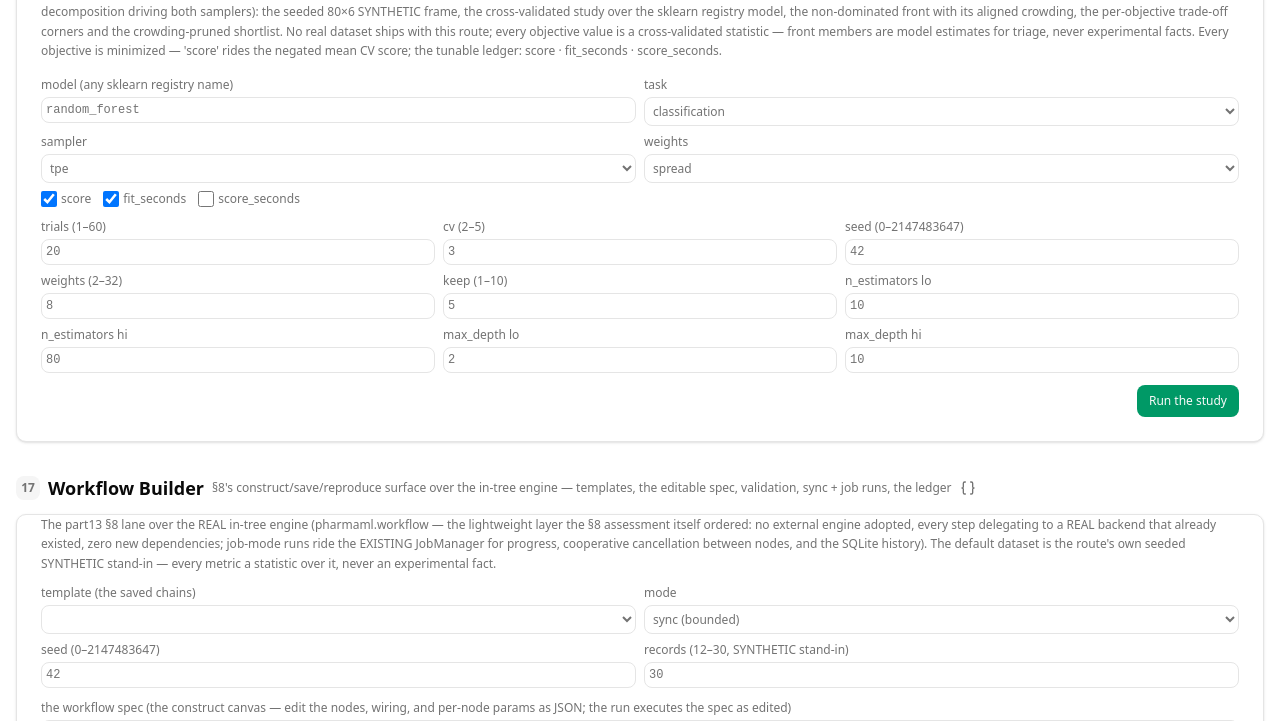
Test: the multi-objective optimization lane of the Machine Learning workspace › renders the honest nulls — a 3-objective study reports a null indicator
(page scrolled)
Click the button "Run the study" at (1188, 401), box [1137,385,1239,417]
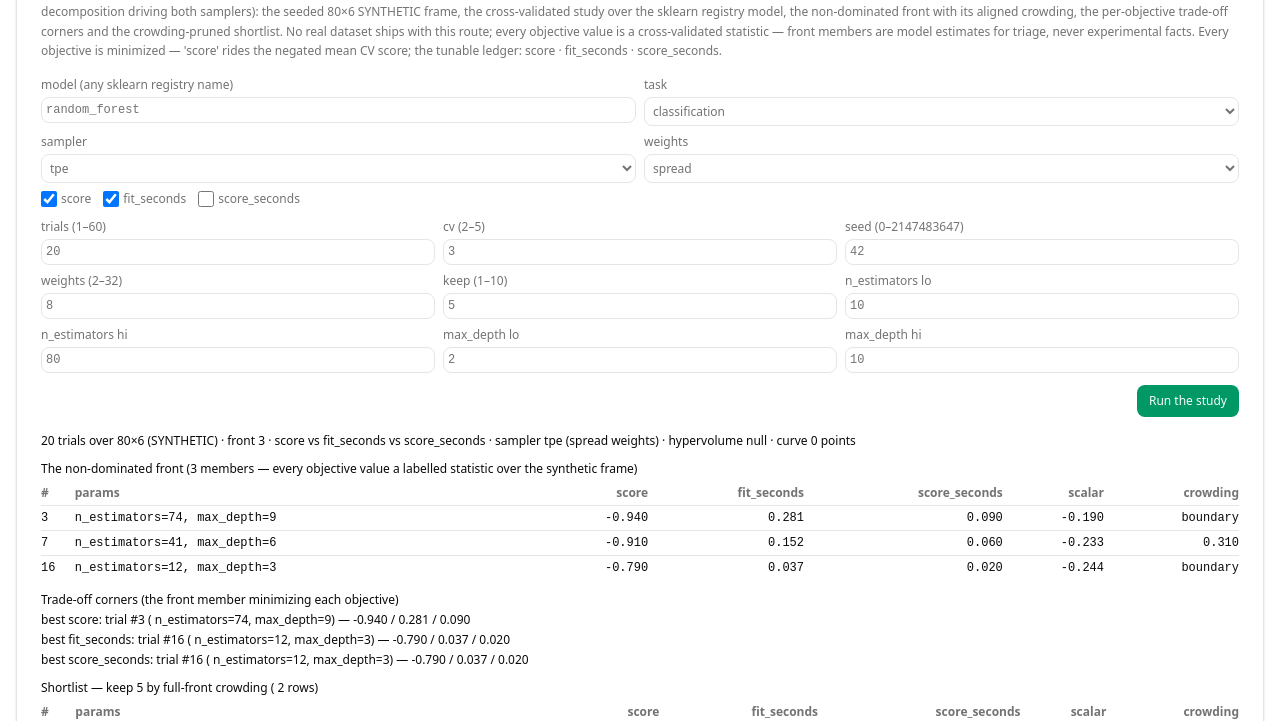
Now the text "score vs fit_seconds vs score_seconds" is shown, box [275,432,486,449]
Now the text "curve 0 points" is shown, box [41,432,856,449]
Now the text "best score_seconds: trial #16" is shown, box [41,651,529,668]
